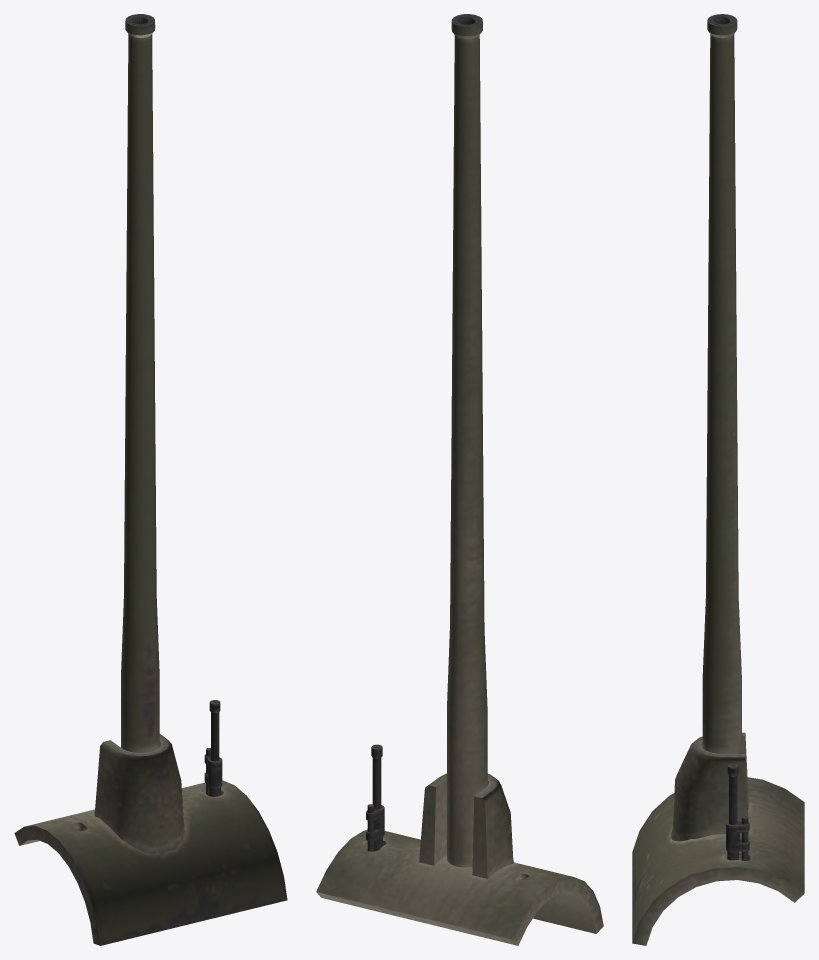
Rendered from Gun_02.glb.
3 views of the same model, side by side, from view 1: azimuth 30°, elevation 25°; view 2: azimuth 150°, elevation 25°; view 3: azimuth 270°, elevation 25° (orthographic). The views are drawn at different scales.
Visible parts, largest first — view 1: set_0_group_0; view 2: set_0_group_0; view 3: set_0_group_0.
Part boxes in pixels (x1,y1,x2,y2): set_0_group_0: (14,14,287,945); set_0_group_0: (316,14,603,945); set_0_group_0: (632,14,804,945).
Bounding box in the file's own units: 0.5874 × 2.62 × 0.4676.
1 material, 1 textured.
